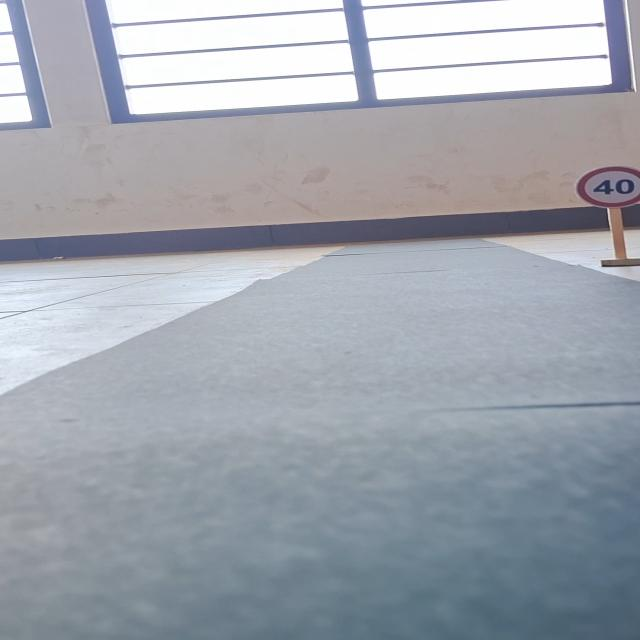Speed40: (571, 163, 640, 211)
